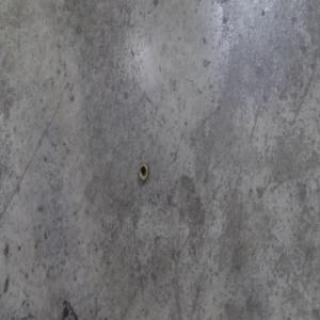Nuttrack_idkeyframe: (137, 160, 149, 182)
